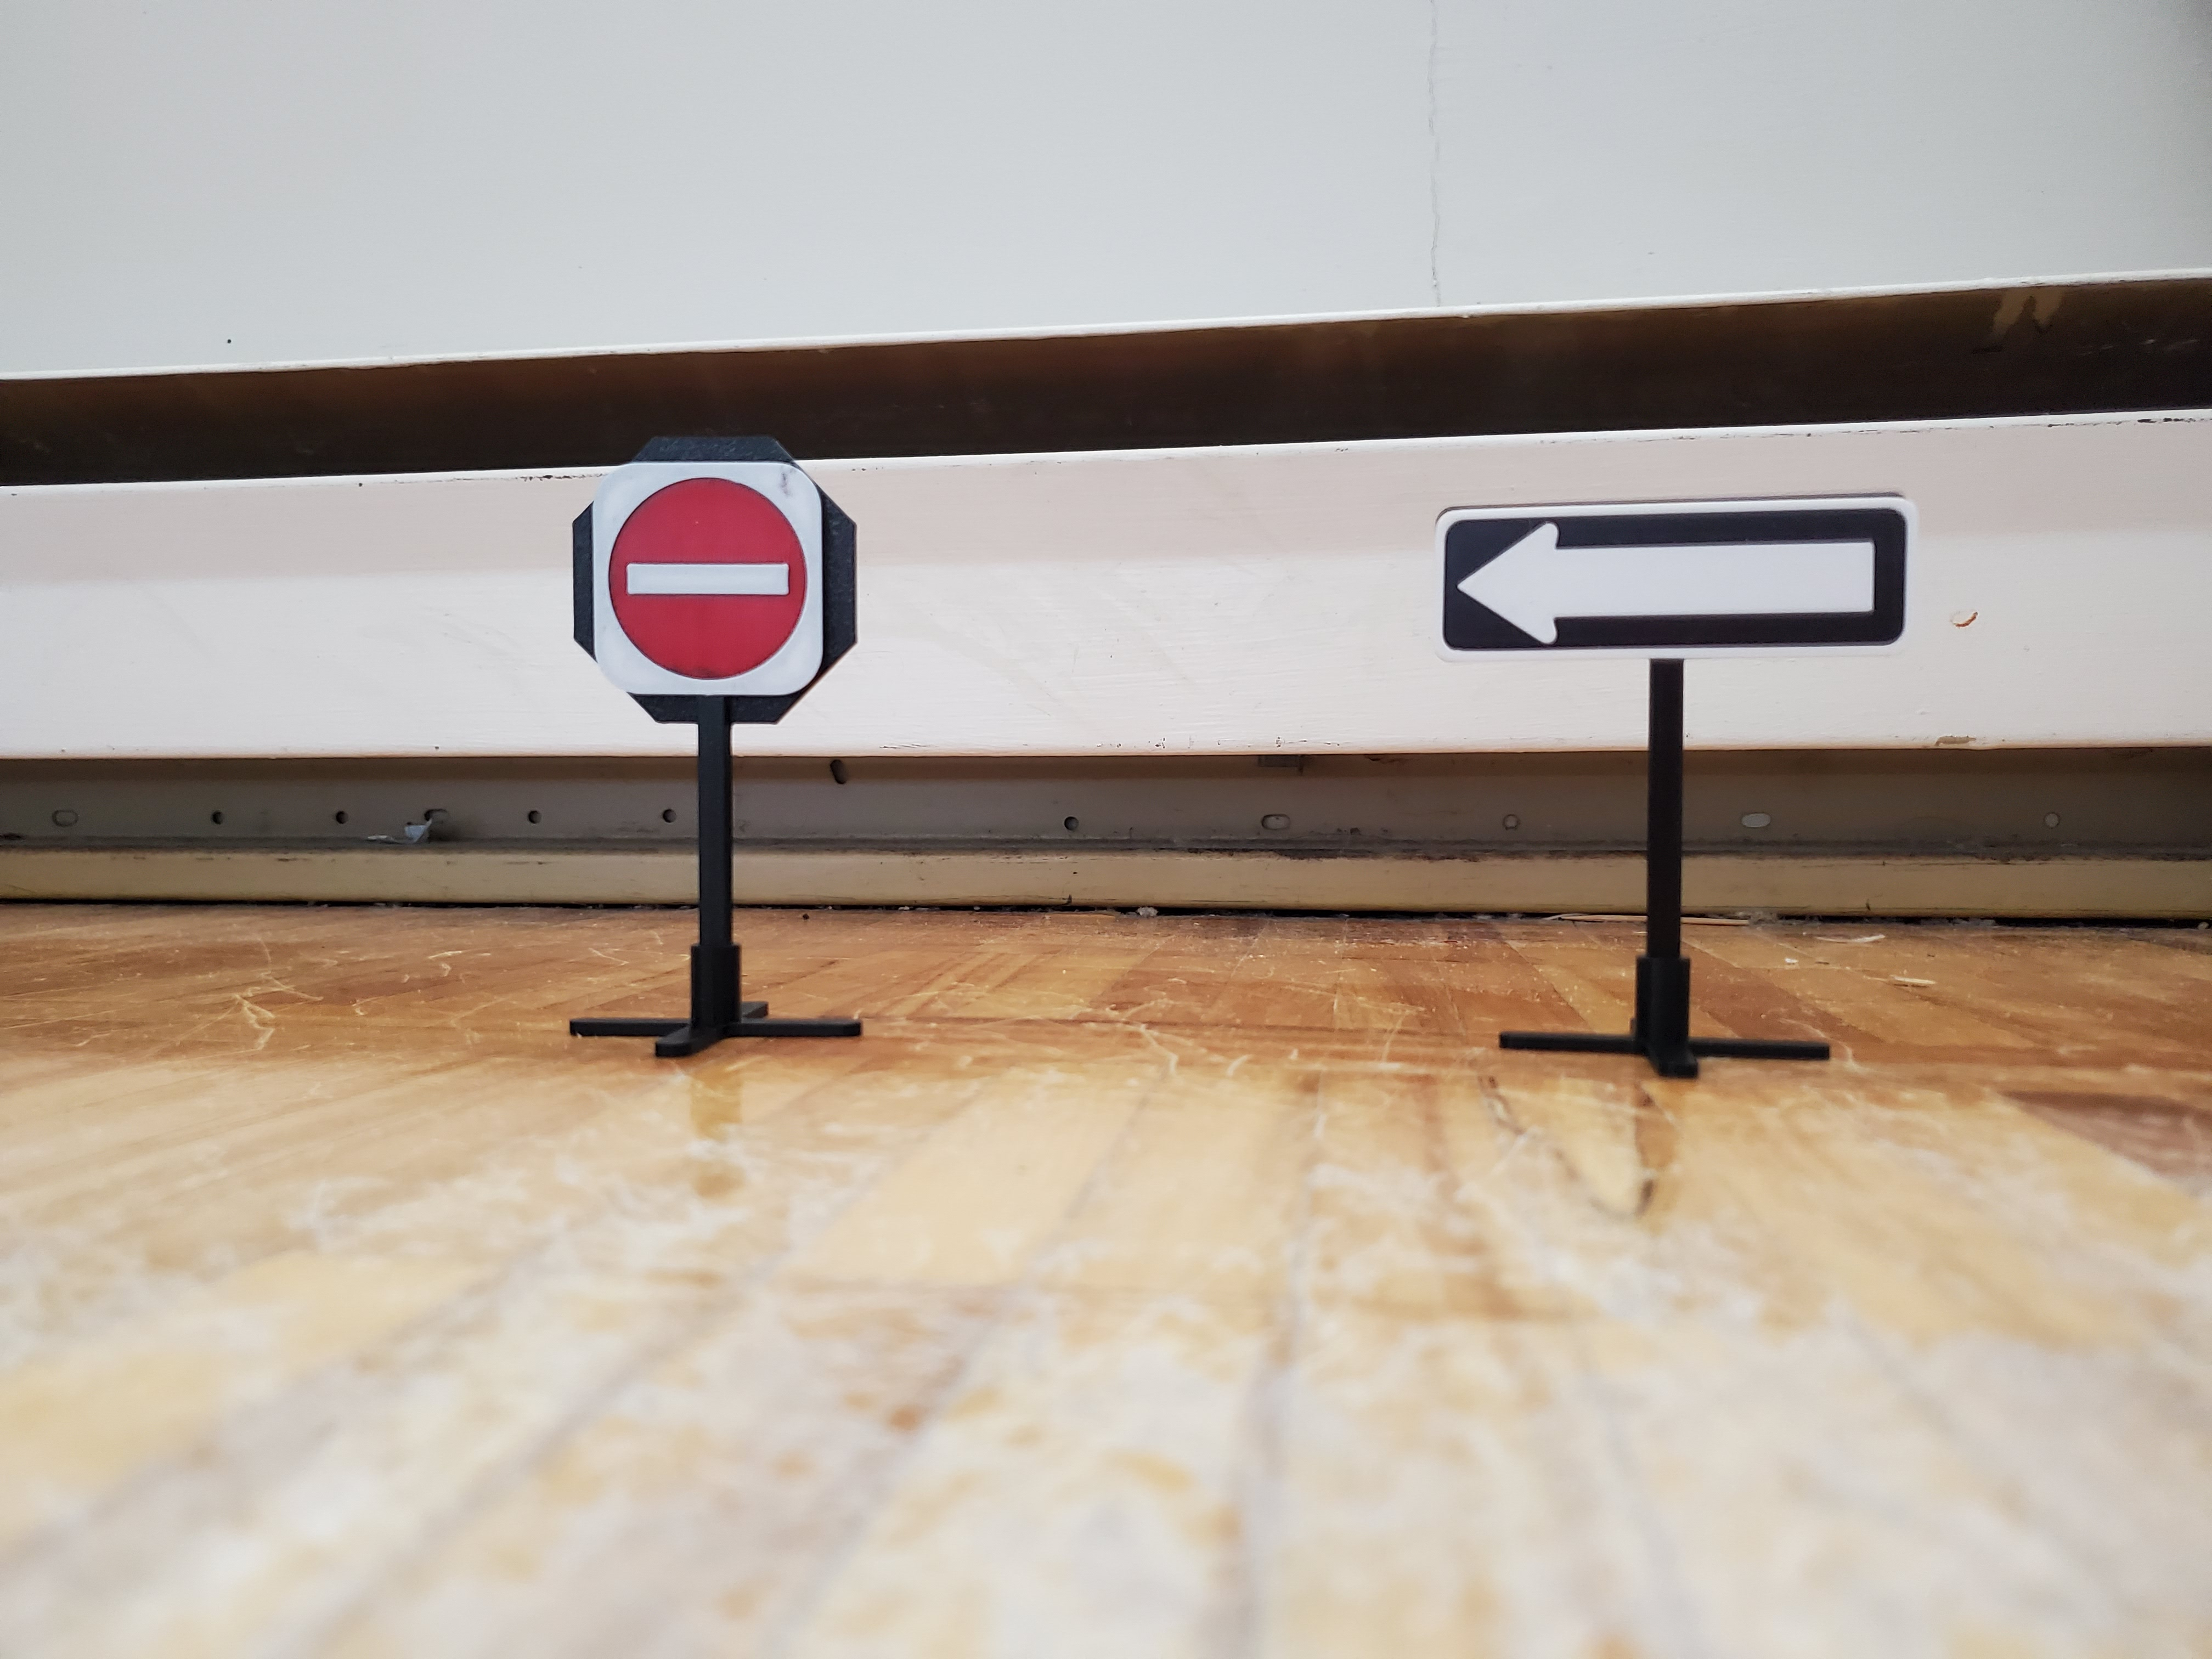sign_noentry: (486, 416, 948, 1148)
sign_oneway_left: (1369, 439, 1998, 1155)
